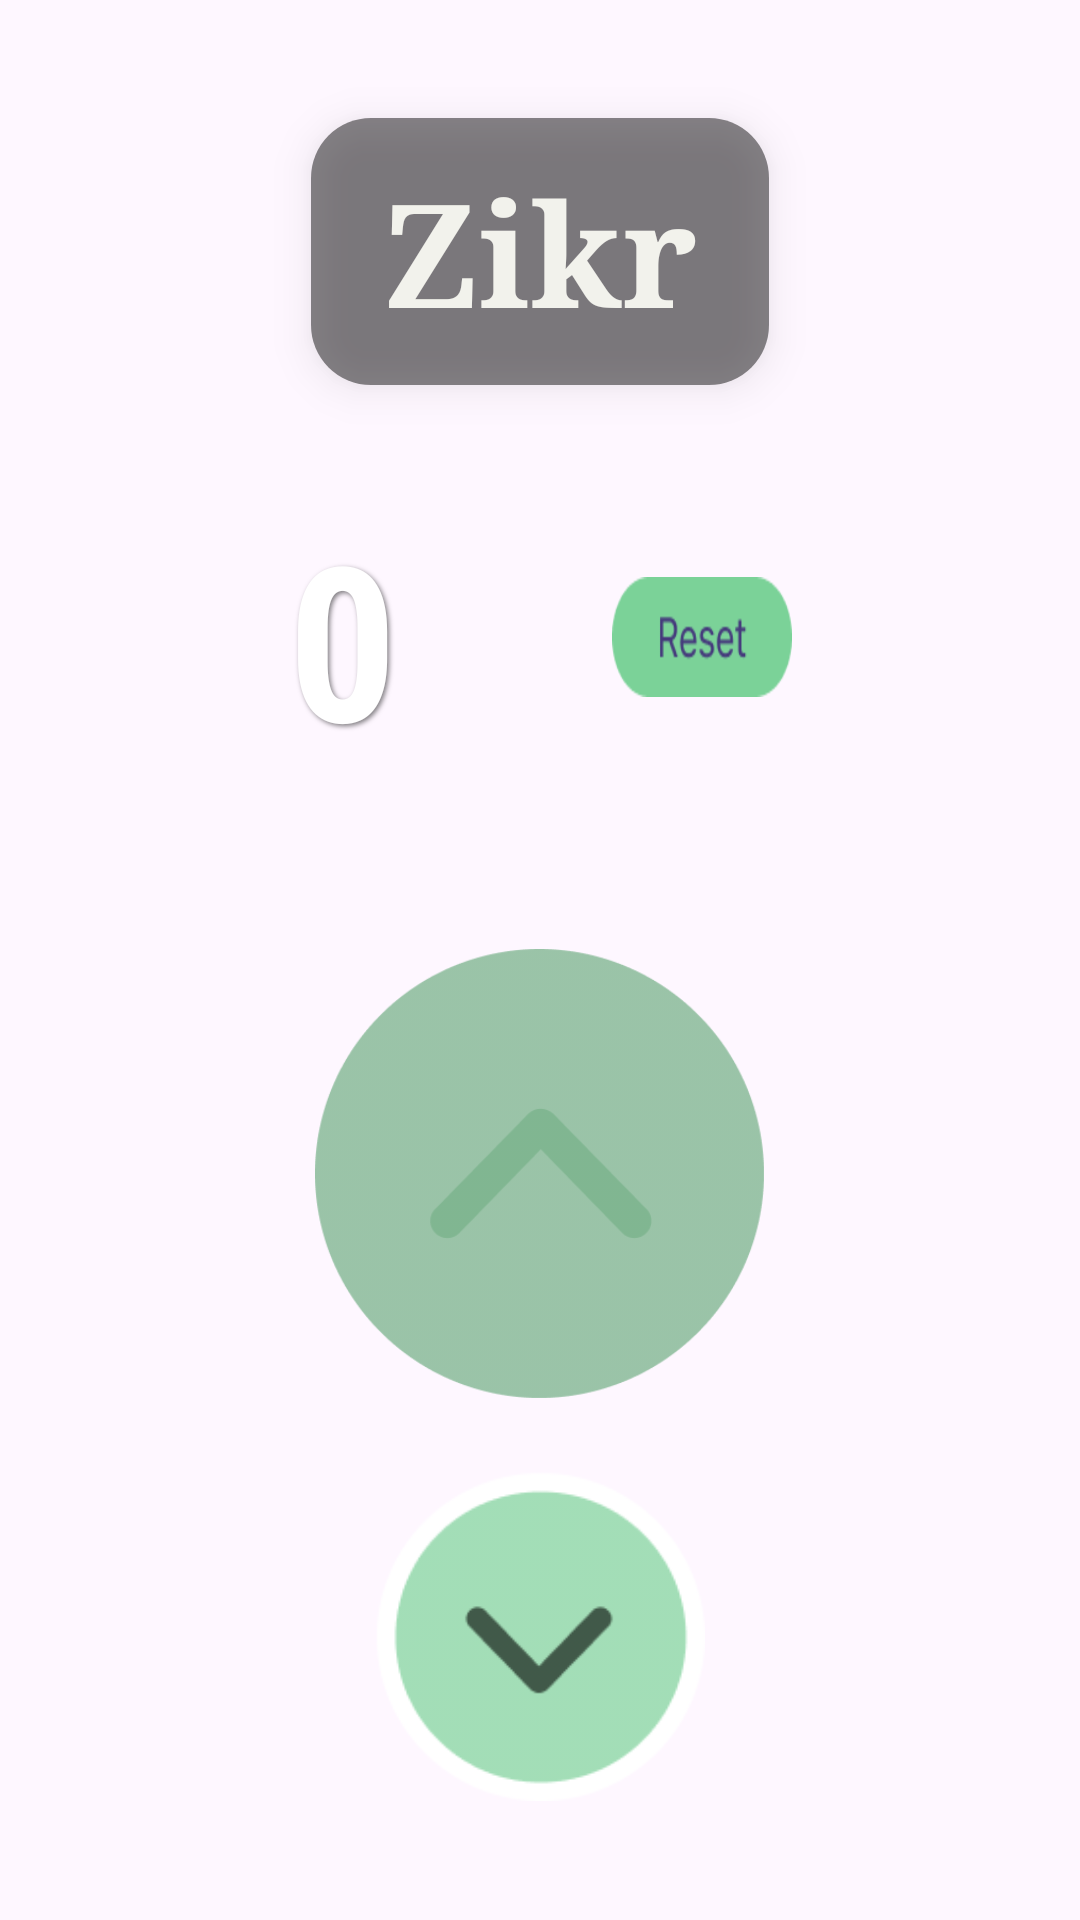

Icons on this 1080w x 1920h Android screen, each with the point to tap as (x=x, y=y):
count down: (x=541, y=1637)
